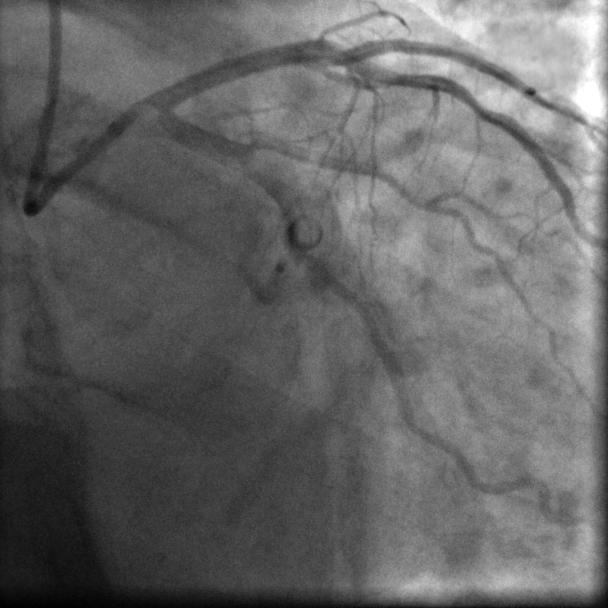Stenosis: (242, 126, 279, 158)
